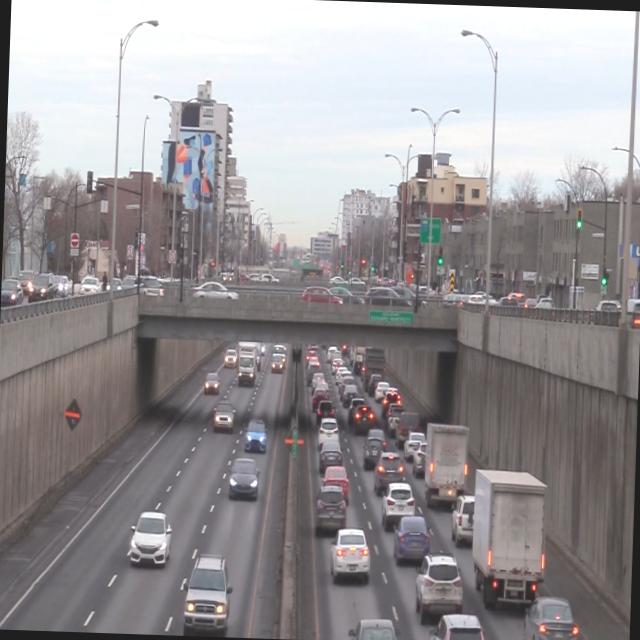Vehicle: (469, 468, 546, 614), (421, 421, 472, 510), (183, 549, 234, 637), (414, 549, 464, 626), (128, 506, 173, 570), (521, 595, 580, 640), (327, 526, 372, 584), (391, 513, 432, 564), (379, 482, 418, 532), (426, 611, 487, 640), (315, 484, 348, 535), (228, 454, 262, 502), (452, 493, 480, 548), (374, 452, 405, 494), (348, 617, 401, 640), (322, 464, 352, 504), (244, 417, 268, 454), (212, 399, 236, 432)
